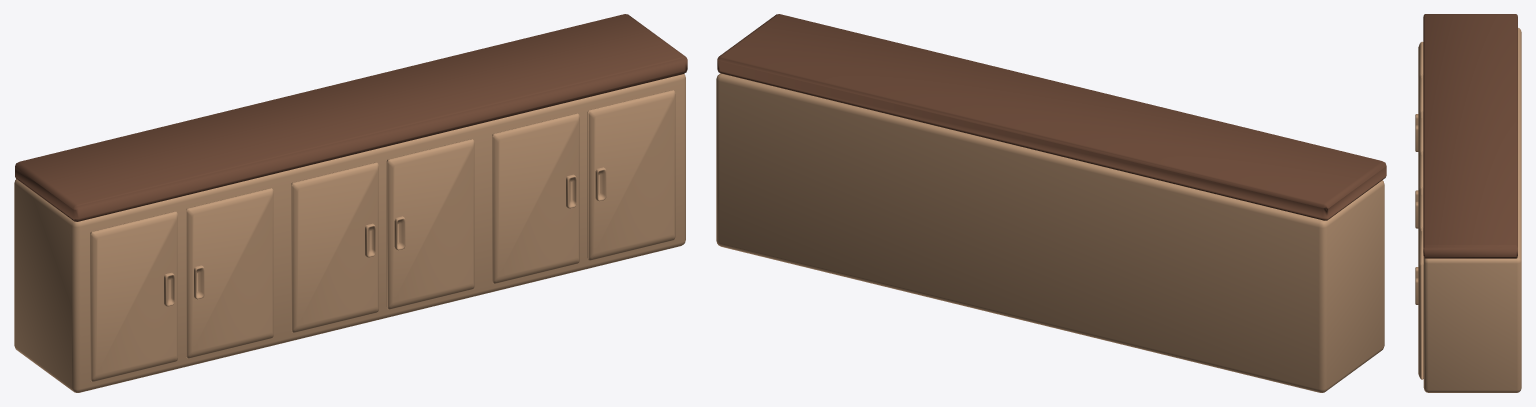
File: Long_cabinet.fbx
The picture shows the model from 3 angles, left to right: view 1: azimuth 30°, elevation 25°; view 2: azimuth 150°, elevation 25°; view 3: azimuth 270°, elevation 25°; orthographic projection. The views are drawn at different scales.
Parts seen in each view (by area): view 1: Long_cabinet; view 2: Long_cabinet; view 3: Long_cabinet.
Boxes of the visible parts, <box> form: Long_cabinet: <box>14,14,687,392</box>; Long_cabinet: <box>716,14,1386,392</box>; Long_cabinet: <box>1415,14,1521,392</box>.
Bounding box in the file's own units: 226 × 66.94 × 43.47.
